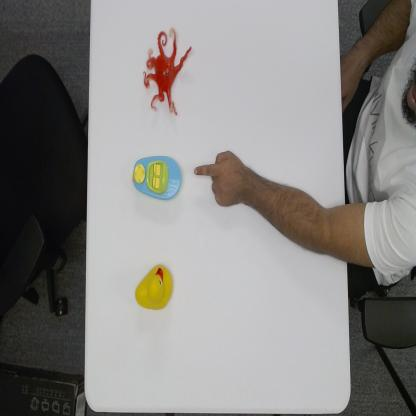Arm: (258, 175, 365, 264)
Boat: (131, 150, 183, 200)
Duck: (134, 260, 176, 310)
Hand: (194, 143, 248, 208)
Octopus: (142, 26, 192, 118)
